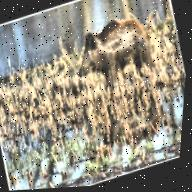boar: (56, 0, 190, 105)
